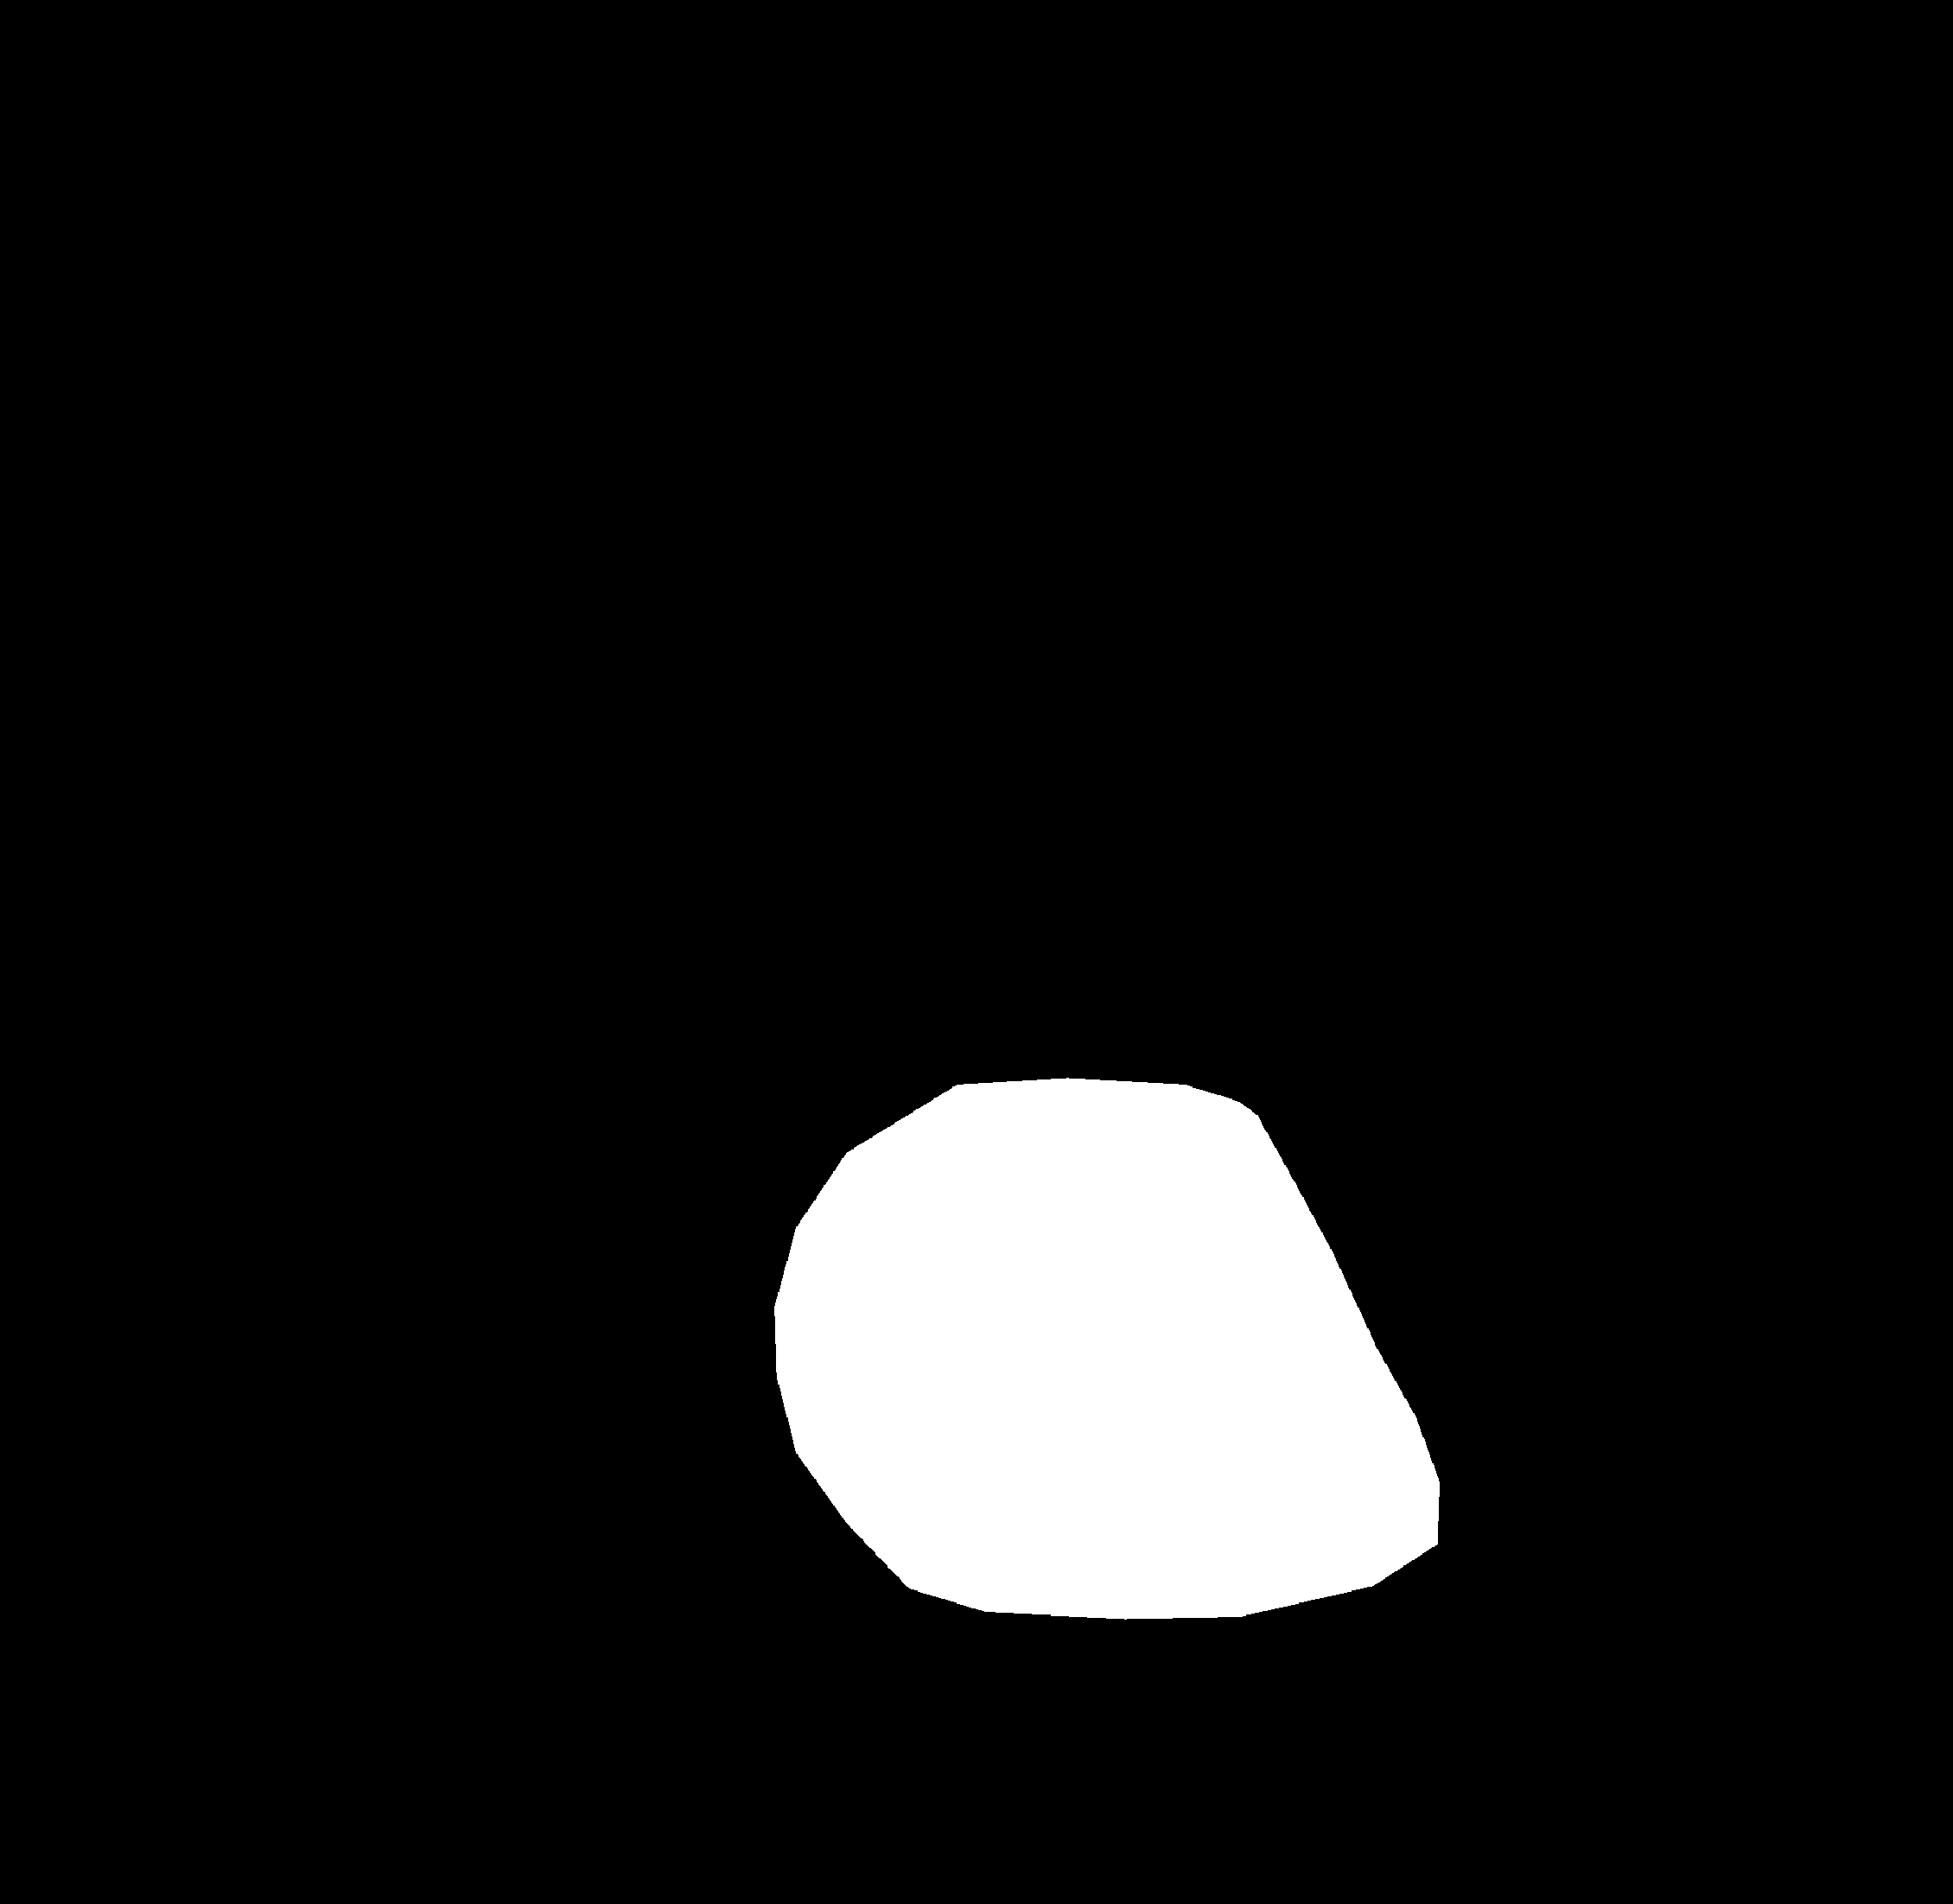heart: (779, 1203, 1447, 1649)
left_lung: (138, 242, 893, 1843)
right_lung: (1036, 251, 1854, 1782)
